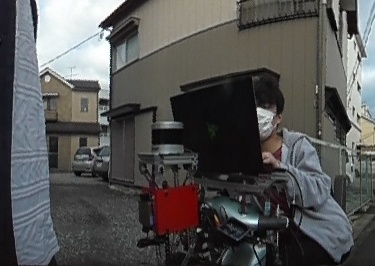person: (249, 73, 350, 266)
